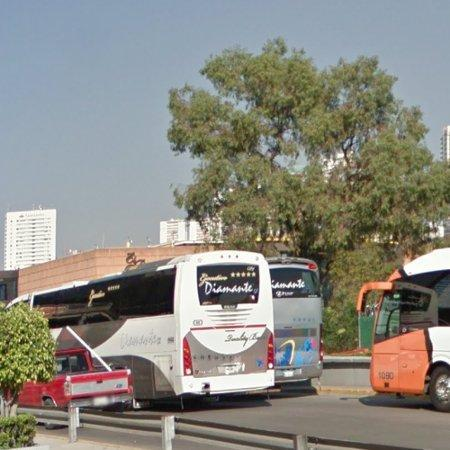buses: (14, 251, 275, 400), (358, 249, 450, 411), (268, 259, 323, 386)
